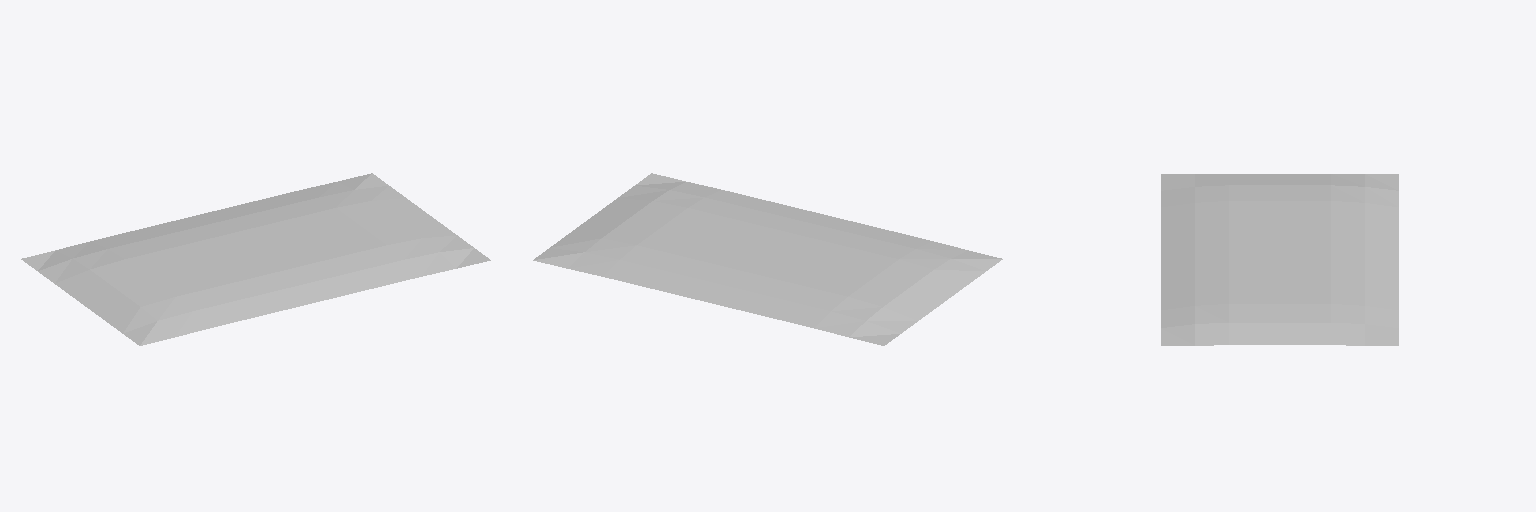
The model's file is DirtPatch.obj.
3 renders of one model, left to right at view 1: azimuth 30°, elevation 25°; view 2: azimuth 150°, elevation 25°; view 3: azimuth 270°, elevation 25°, orthographic.
Visible parts, largest first — view 1: DirtPatch; view 2: DirtPatch; view 3: DirtPatch.
Part boxes in pixels (bbox=[...]): DirtPatch: bbox=[21, 173, 490, 345]; DirtPatch: bbox=[533, 173, 1002, 345]; DirtPatch: bbox=[1161, 174, 1398, 345].
Size of the model in its own units: 20.1 by 0.4029 by 11.79.